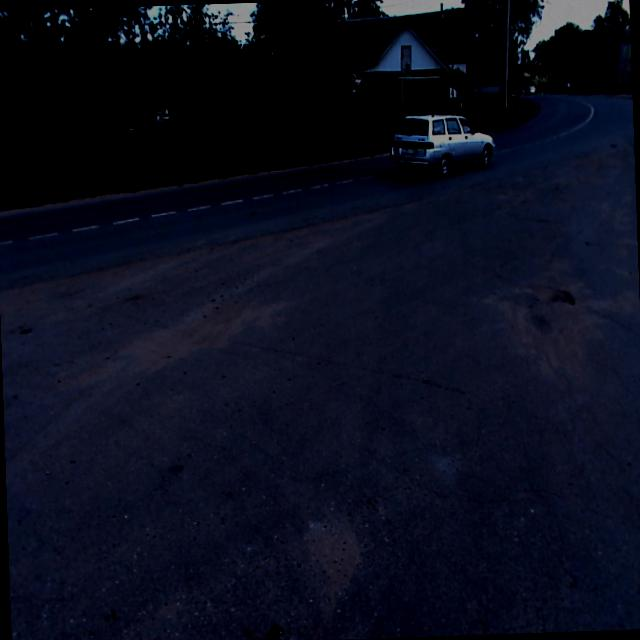road: (0, 93, 640, 640)
